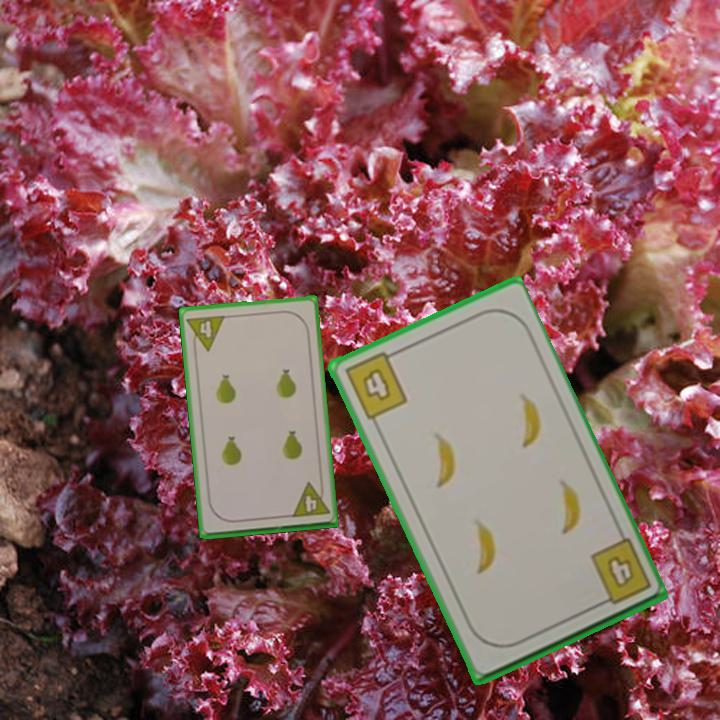4b: (341, 347, 411, 423), (586, 535, 654, 610)
4p: (183, 311, 228, 355), (288, 478, 332, 520)
